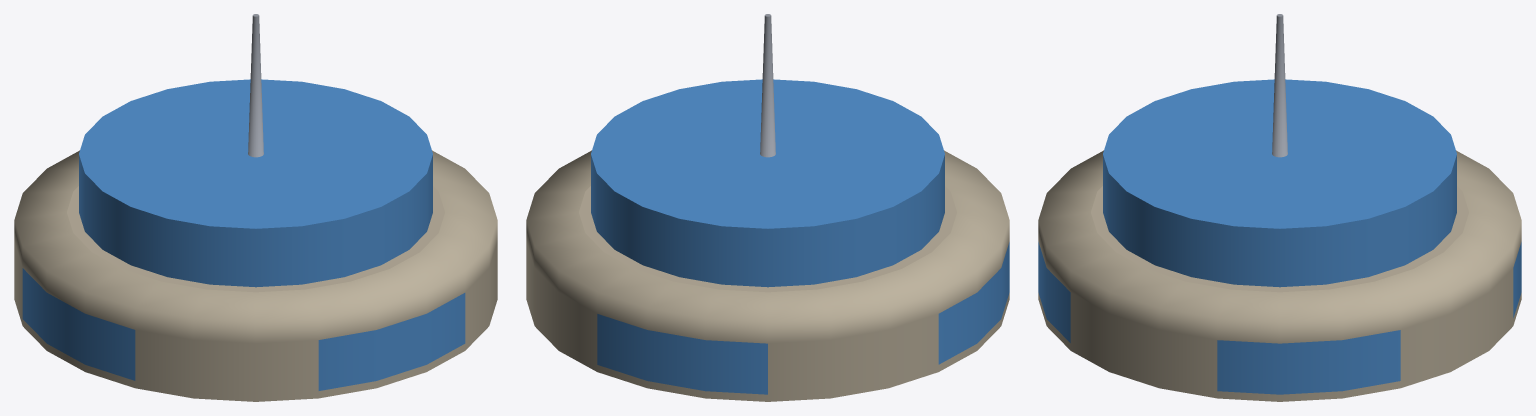
File: Kit_RoundTower.glb
3 renders of one model, left to right at view 1: azimuth 30°, elevation 25°; view 2: azimuth 150°, elevation 25°; view 3: azimuth 270°, elevation 25°, orthographic.
Parts seen in each view (by area): view 1: Kit_RoundTower_Base, Kit_RoundTower_Shaft, Kit_RoundTower_Crown; view 2: Kit_RoundTower_Base, Kit_RoundTower_Shaft, Kit_RoundTower_Crown; view 3: Kit_RoundTower_Base, Kit_RoundTower_Shaft, Kit_RoundTower_Crown.
Boxes of the visible parts, x1,y1,x2,y2 form: Kit_RoundTower_Base: (14, 150, 497, 401); Kit_RoundTower_Shaft: (79, 79, 432, 287); Kit_RoundTower_Crown: (248, 14, 263, 157); Kit_RoundTower_Base: (526, 150, 1009, 401); Kit_RoundTower_Shaft: (591, 79, 944, 287); Kit_RoundTower_Crown: (760, 14, 775, 157); Kit_RoundTower_Base: (1038, 150, 1521, 401); Kit_RoundTower_Shaft: (1103, 79, 1456, 287); Kit_RoundTower_Crown: (1272, 14, 1287, 157).
Bounding box in the file's own units: 60 × 39 × 60.
